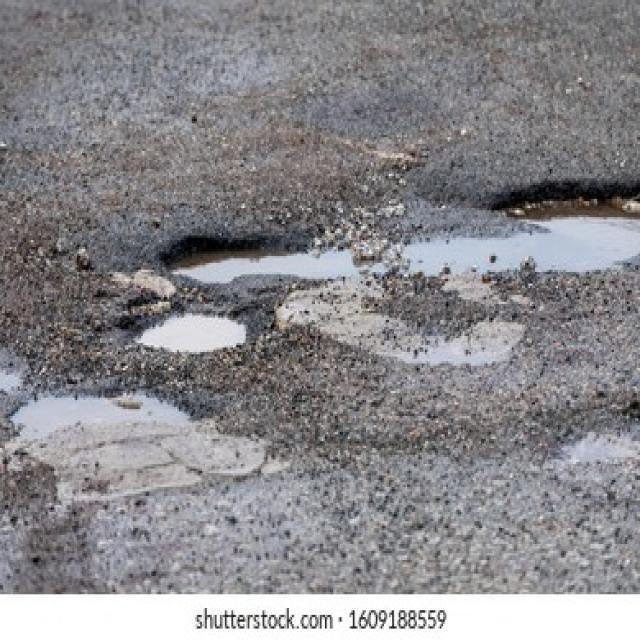Pothole: (159, 169, 640, 286), (121, 297, 252, 359)
